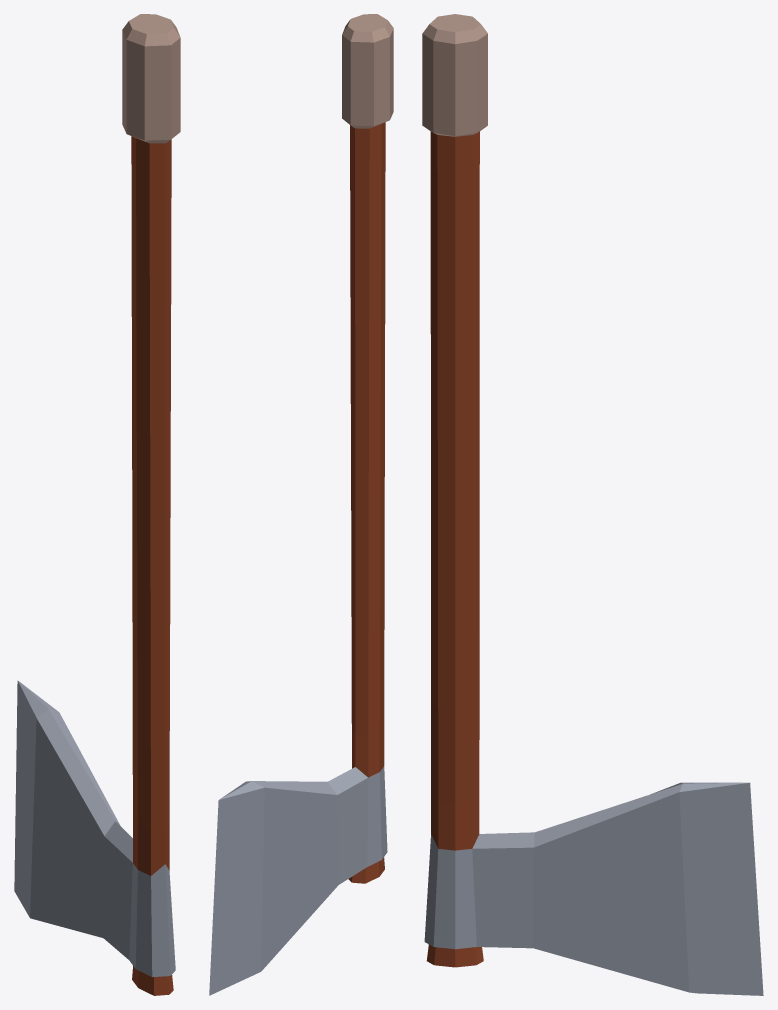
Rendered from axe.glb.
The picture shows the model from 3 angles, left to right: view 1: azimuth 30°, elevation 25°; view 2: azimuth 150°, elevation 25°; view 3: azimuth 270°, elevation 25°; orthographic projection. The views are drawn at different scales.
Parts seen in each view (by area): view 1: axe; view 2: axe; view 3: axe.
Part boxes in pixels (box(x1,y1,x2,y2)): axe: box(14, 14, 180, 995); axe: box(209, 14, 393, 995); axe: box(422, 14, 763, 995).
Size of the model in its own units: 0.2875 by 5.19 by 1.67.
1 material, 1 textured.
